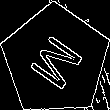M_SE: (23, 27, 88, 93)
